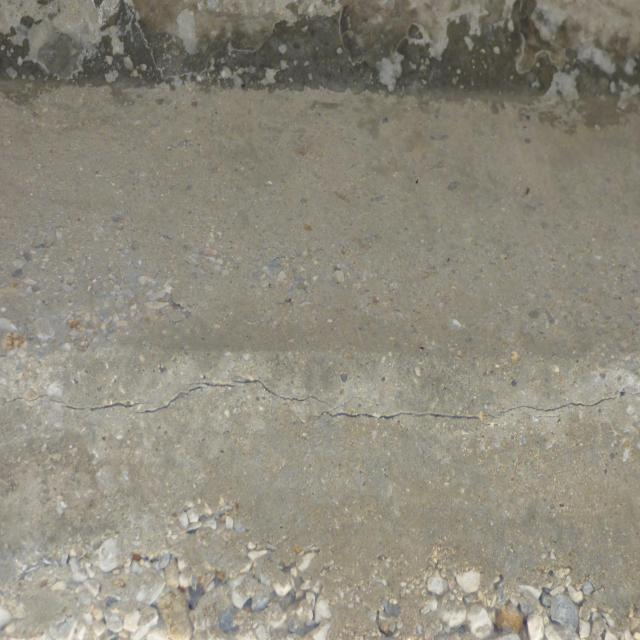horizontal crack: (0, 375, 640, 428)
